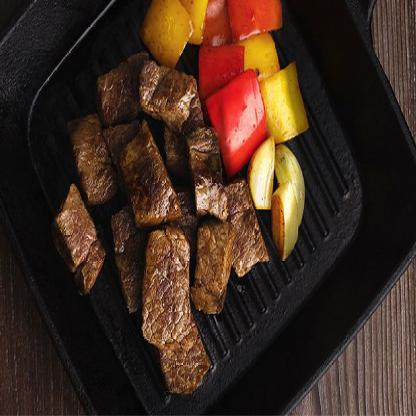Carne: (138, 227, 206, 400), (118, 136, 186, 236), (210, 180, 276, 277), (54, 185, 108, 298), (67, 108, 122, 204), (184, 126, 234, 224), (108, 200, 144, 318), (138, 60, 198, 125), (192, 220, 237, 306), (90, 70, 145, 126)
